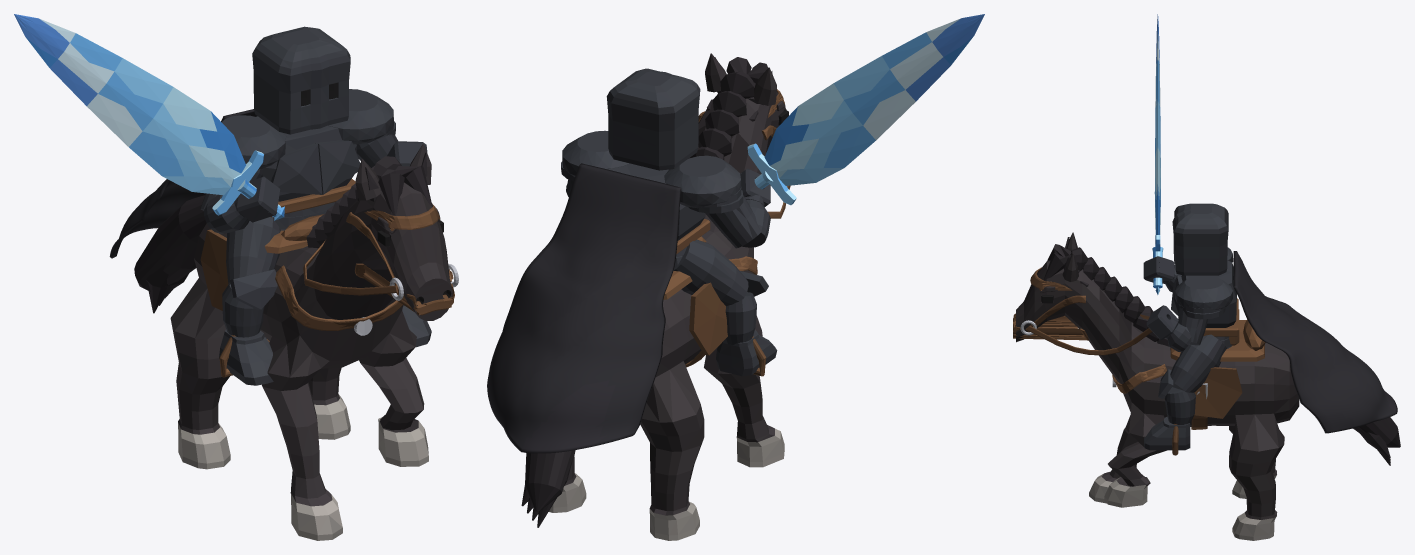
File: highking.glb
3 views of the same model, side by side, from view 1: azimuth 30°, elevation 25°; view 2: azimuth 150°, elevation 25°; view 3: azimuth 270°, elevation 25° (orthographic). The views are drawn at different scales.
Visible parts, largest first — view 1: Warhorse — single connected sculpted equine head neck trunk , Kingslayer blue greatsword — slender widening source crystal, Mounted champion helm — integrated stepped roof cheek nape a, Warhorse — long solid angular tail, Mounted champion — shaped seated thigh 1, Mounted champion — continuously folded source cloak, Mounted champion — source convex angular shoulder crown -1, Mounted champion — articulated boot 1, Mounted champion — source convex angular shoulder crown 1, Mounted champion — convex chest plate 1, Mounted champion — convex chest plate -1, Warhorse — shaped source leather saddle skirt 1 (+20 smaller); view 2: Mounted champion — continuously folded source cloak, Warhorse — single connected sculpted equine head neck trunk , Kingslayer blue greatsword — slender widening source crystal, Mounted champion helm — integrated stepped roof cheek nape a, Mounted champion — source convex angular shoulder crown 1, Mounted champion — shaped seated thigh 1, Warhorse — long solid angular tail, Warhorse — shaped source leather saddle skirt 1, Mounted champion — source convex angular shoulder crown -1, Mounted champion — articulated boot 1, Rider RIGHT — connected upper articulated sleeve, Mounted champion — curved calf greave 1 (+9 smaller); view 3: Warhorse — single connected sculpted equine head neck trunk , Mounted champion — continuously folded source cloak, Mounted champion helm — integrated stepped roof cheek nape a, Mounted champion — shaped seated thigh -1, Warhorse — shaped source leather saddle skirt -1, Mounted champion — source convex angular shoulder crown -1, Kingslayer blue greatsword — slender widening source crystal, Mounted champion — articulated boot -1, Warhorse — fitted flat muzzle noseband, Mounted champion — curved calf greave -1, Warhorse — supported curved leather saddle tree, Mounted champion — curved tapered cuirass (+7 smaller).
Part boxes in pixels (x1,y1,x2,y2): Warhorse — single connected sculpted equine head neck trunk : (170, 182, 452, 540); Kingslayer blue greatsword — slender widening source crystal: (14, 14, 245, 195); Mounted champion helm — integrated stepped roof cheek nape a: (252, 26, 350, 134); Warhorse — long solid angular tail: (134, 195, 205, 291); Mounted champion — shaped seated thigh 1: (226, 217, 280, 284); Mounted champion — continuously folded source cloak: (109, 109, 257, 258); Mounted champion — source convex angular shoulder crown -1: (328, 89, 393, 144); Mounted champion — articulated boot 1: (219, 329, 273, 385); Mounted champion — source convex angular shoulder crown 1: (221, 115, 285, 169); Mounted champion — convex chest plate 1: (271, 143, 322, 194); Mounted champion — convex chest plate -1: (315, 140, 360, 194); Warhorse — shaped source leather saddle skirt 1: (200, 229, 228, 310); Mounted champion — continuously folded source cloak: (487, 163, 681, 453); Warhorse — single connected sculpted equine head neck trunk : (548, 86, 786, 540); Kingslayer blue greatsword — slender widening source crystal: (764, 14, 984, 185); Mounted champion helm — integrated stepped roof cheek nape a: (606, 68, 700, 170); Mounted champion — source convex angular shoulder crown 1: (664, 155, 741, 208); Mounted champion — shaped seated thigh 1: (674, 239, 748, 306); Warhorse — long solid angular tail: (525, 450, 575, 511); Warhorse — shaped source leather saddle skirt 1: (689, 282, 727, 355); Mounted champion — source convex angular shoulder crown -1: (562, 130, 628, 176); Mounted champion — articulated boot 1: (716, 330, 777, 376); Rider RIGHT — connected upper articulated sleeve: (705, 195, 761, 248); Mounted champion — curved calf greave 1: (724, 292, 756, 344); Warhorse — single connected sculpted equine head neck trunk : (1016, 260, 1299, 540); Mounted champion — continuously folded source cloak: (1233, 251, 1397, 433); Mounted champion helm — integrated stepped roof cheek nape a: (1172, 203, 1228, 275); Mounted champion — shaped seated thigh -1: (1170, 334, 1226, 392); Warhorse — shaped source leather saddle skirt -1: (1194, 367, 1242, 418); Mounted champion — source convex angular shoulder crown -1: (1175, 275, 1232, 309); Kingslayer blue greatsword — slender widening source crystal: (1154, 14, 1160, 234); Mounted champion — articulated boot -1: (1144, 416, 1190, 450); Warhorse — fitted flat muzzle noseband: (1013, 313, 1088, 340); Mounted champion — curved calf greave -1: (1164, 387, 1195, 424); Warhorse — supported curved leather saddle tree: (1170, 320, 1264, 361); Mounted champion — curved tapered cuirass: (1182, 260, 1236, 327).
Bounding box in the file's own units: 1.75 × 2.22 × 2.
